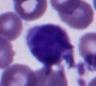L: (26, 22, 74, 64)
